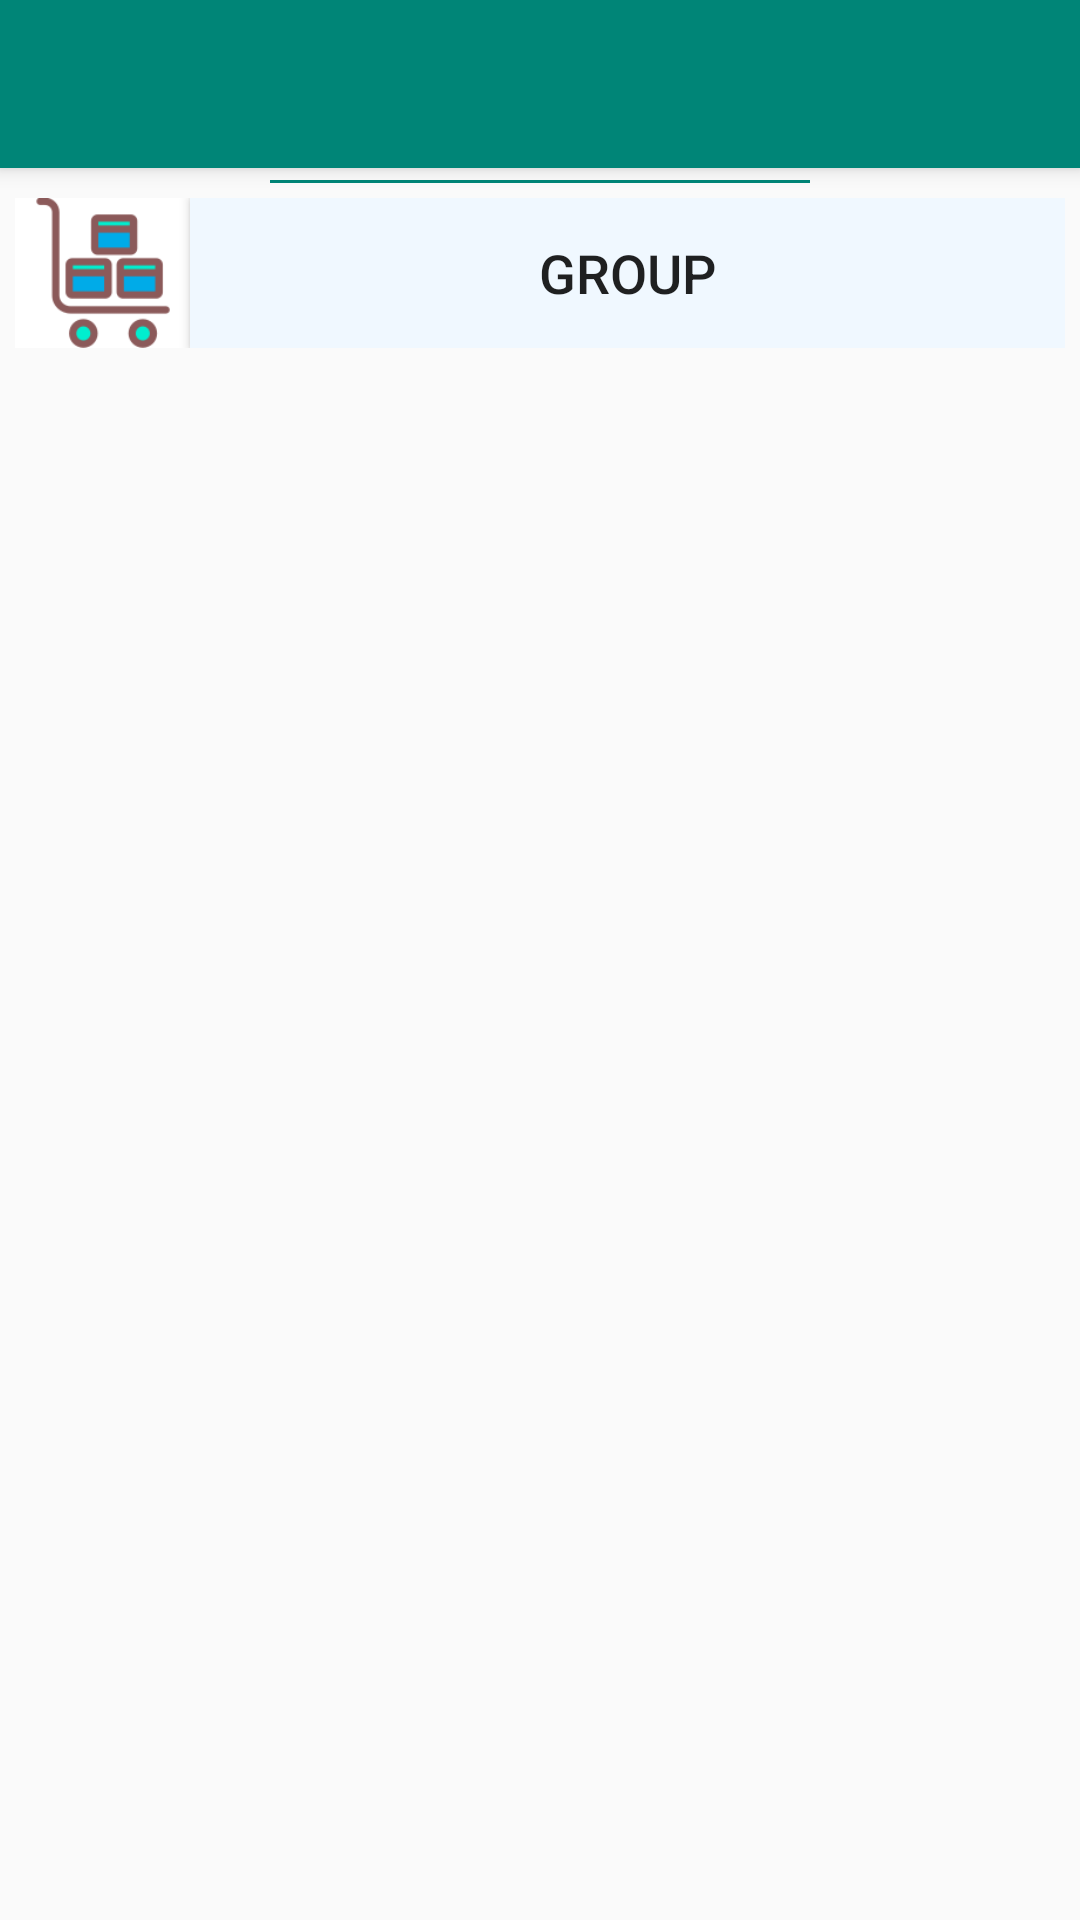

Named icons in this screenshot (1080w x 1920h) and their bounding boxes, bbox(x1, y1, x2, y2):
trolley: bbox(36, 198, 170, 348)
